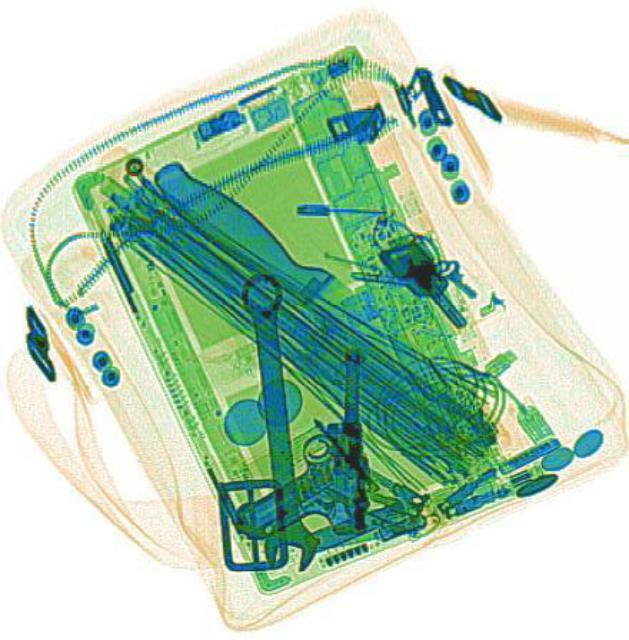Gun: (229, 346, 368, 536)
Knife: (135, 154, 470, 396)
Wrench: (229, 270, 320, 572)
